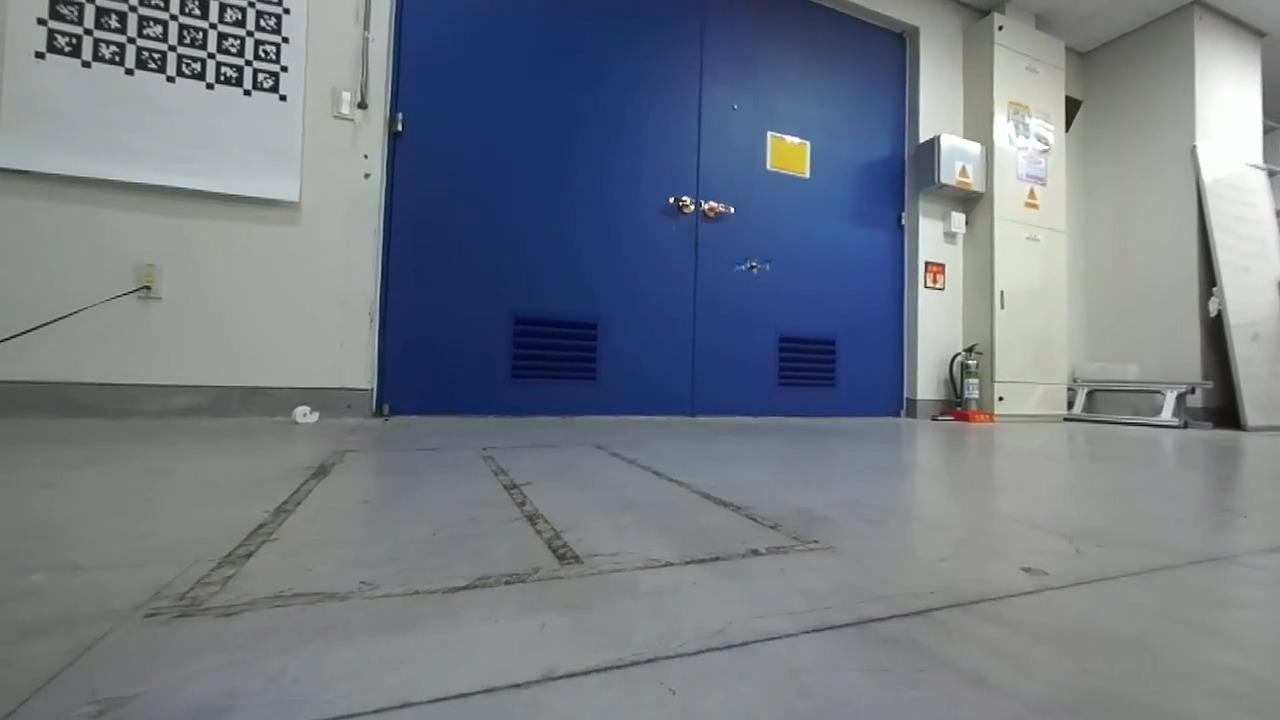crazyflie: (729, 254, 776, 278)
